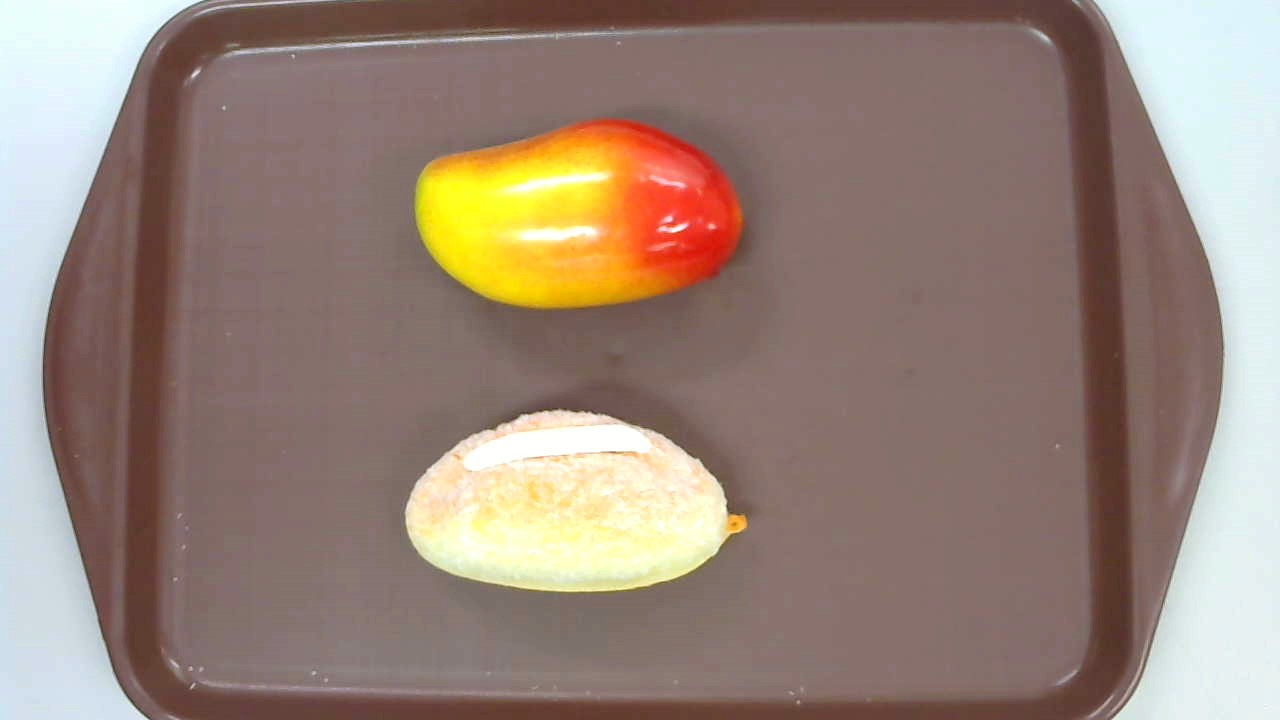coconut: (403, 407, 746, 591)
red mango: (413, 119, 746, 312)
